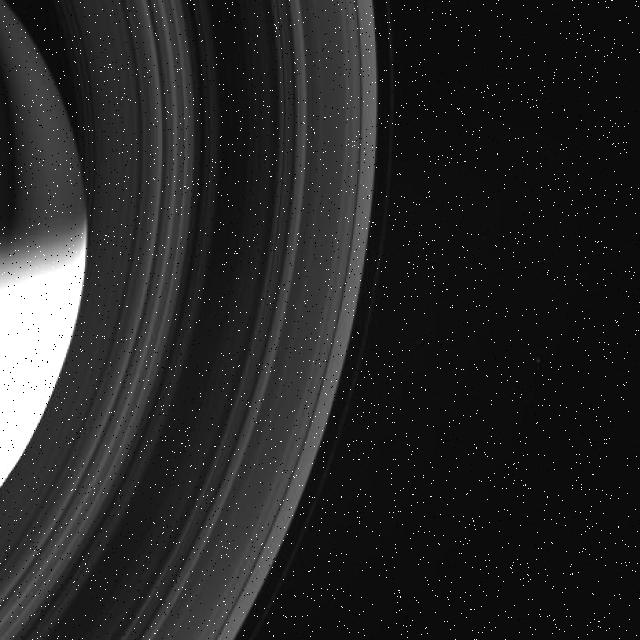Saturn: (0, 0, 400, 640)
